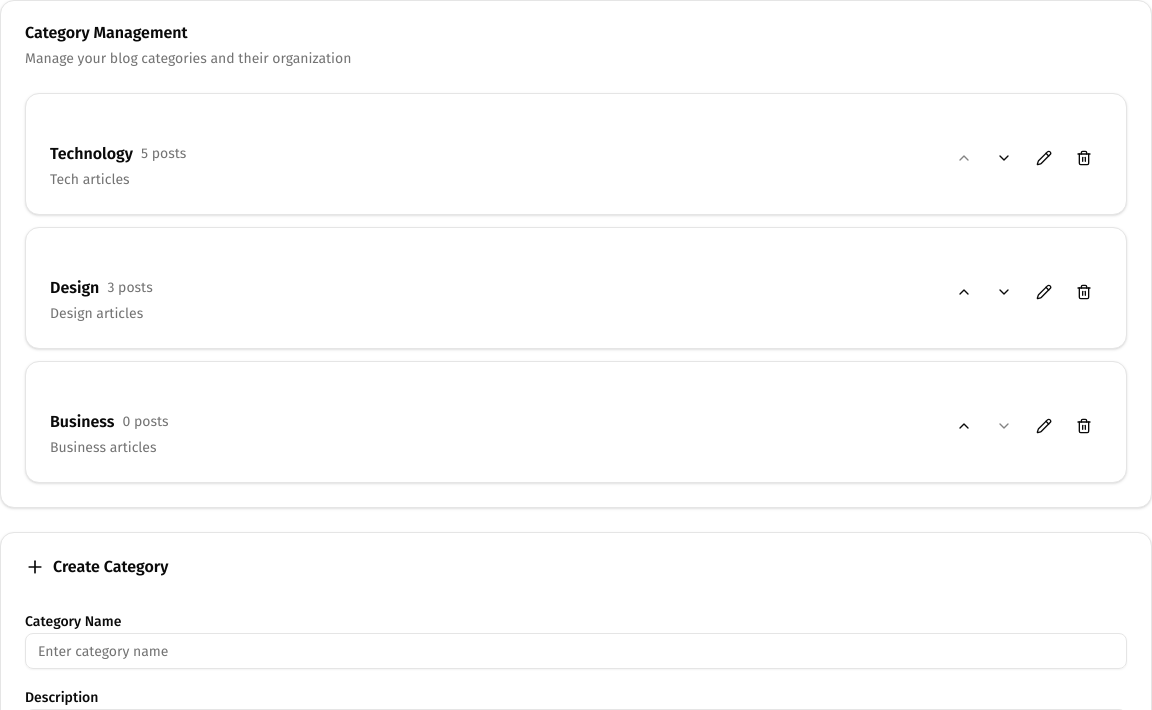
Scenario: CategoryManager › Edit Category › should enter edit mode when edit button clicked
This screenshot has width=1152, height=710.
Click the button named "edit" in the row of "Technology": (1044, 158) [1026,142,1062,174]
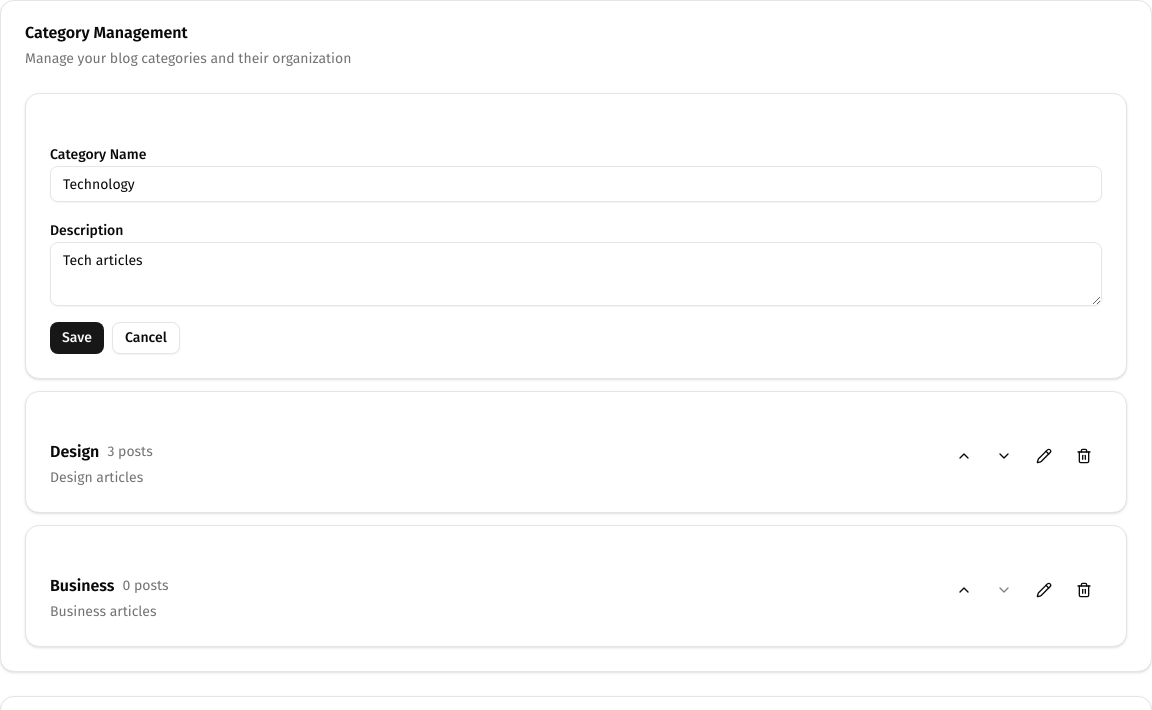
Expected: the field showing "Technology" is shown, [50,166,1102,202]
Expected: the text box showing "Tech articles" is shown, [50,242,1102,306]
